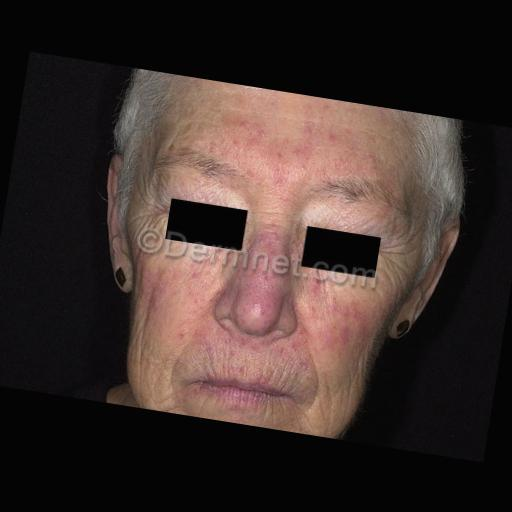Skin_Lesion: (188, 369, 276, 419), (324, 316, 354, 350), (266, 231, 296, 263), (266, 161, 290, 188), (256, 266, 280, 292), (186, 262, 208, 284), (234, 114, 258, 130), (322, 128, 342, 147), (309, 279, 328, 297), (170, 328, 188, 342)
